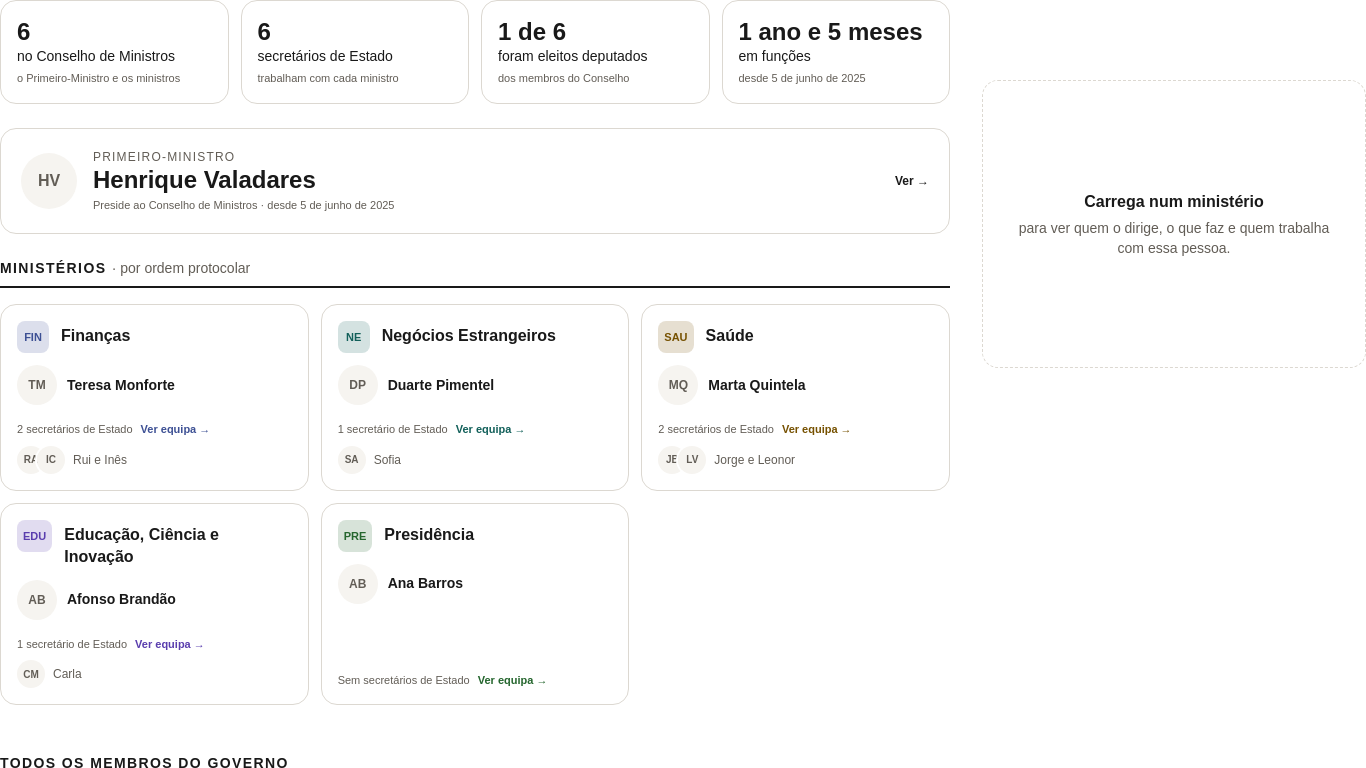
Test: GovernmentView › shows a card per ministry, opens the minister pressed, then their secretary of State, and searches every member
This screenshot has width=1366, height=768.
Later steps or results of the test are not shown.
Expected: the text "Carrega num ministério" is shown, x1=1084 y1=190 x2=1264 y2=214
Expected: the text "no Conselho de Ministros" is shown, x1=17 y1=48 x2=175 y2=64
Click the button "Teresa Monforte". click: click(33, 337)
box: x1=0 y1=304 x2=309 y2=491
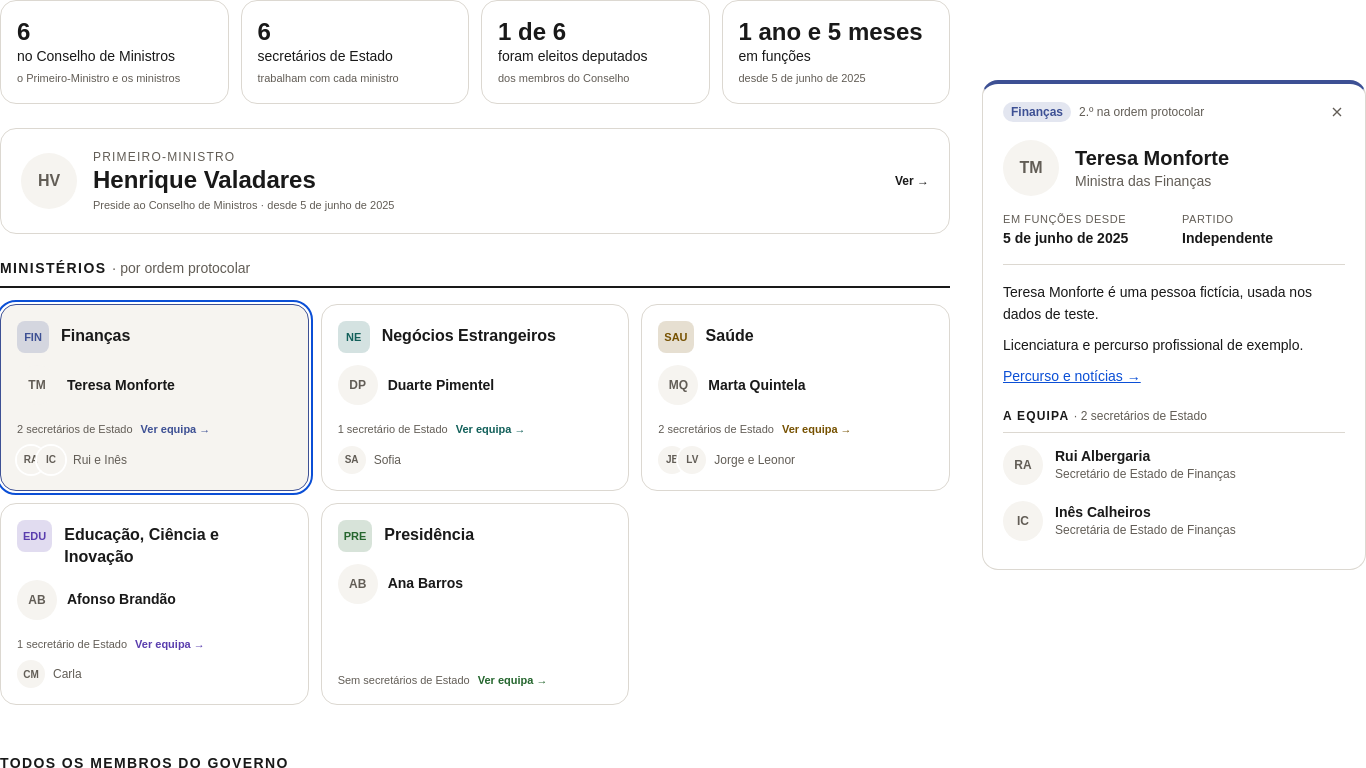
Now the text "2.º na ordem protocolar" is shown, box x1=1079 y1=104 x2=1204 y2=120
Click the button "RA Rui Albergaria Secretário de Estado de Finanças". click: click(1174, 465)
box: x1=995 y1=437 x2=1353 y2=493
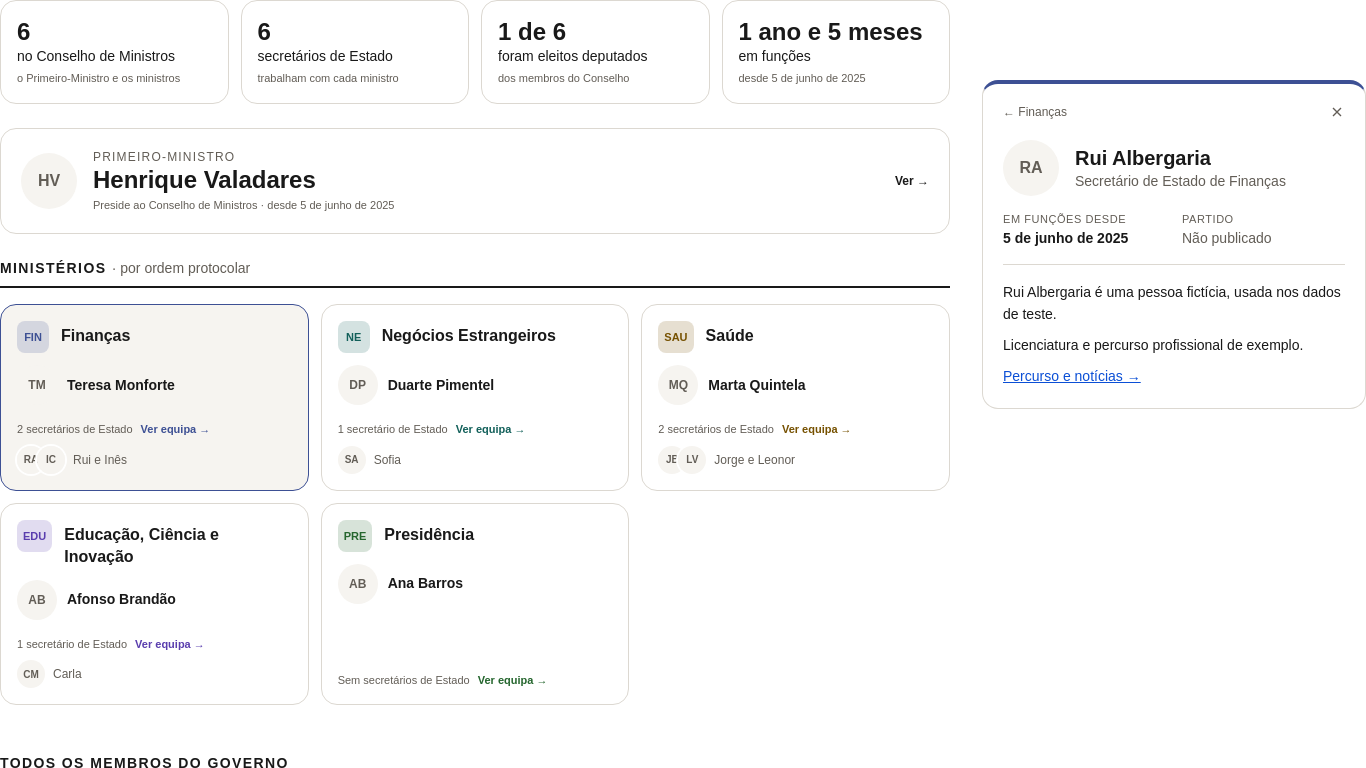
Click the button "← Finanças". click: click(1035, 112)
box: x1=1003 y1=104 x2=1067 y2=120
(page scrolled)
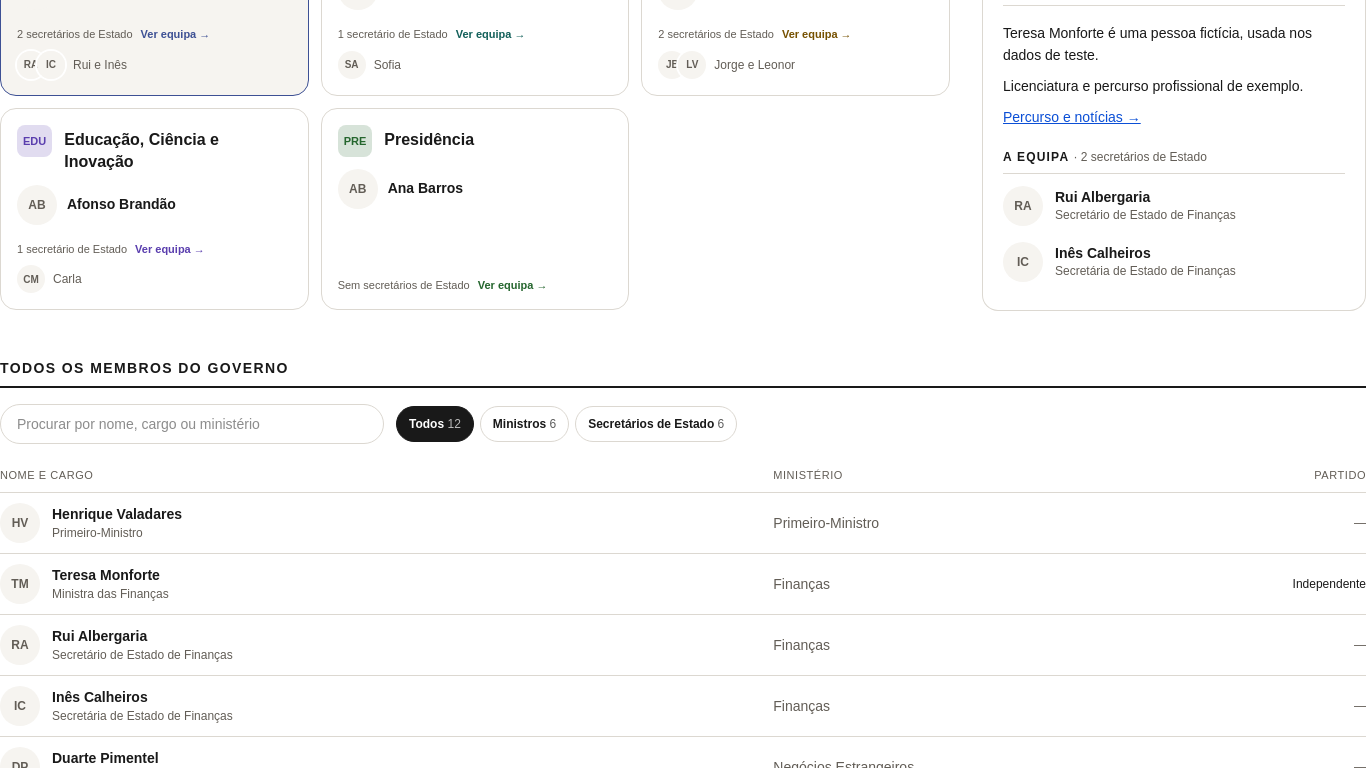
Click the button "Ministros 6". click: click(524, 424)
box: x1=480 y1=406 x2=569 y2=442
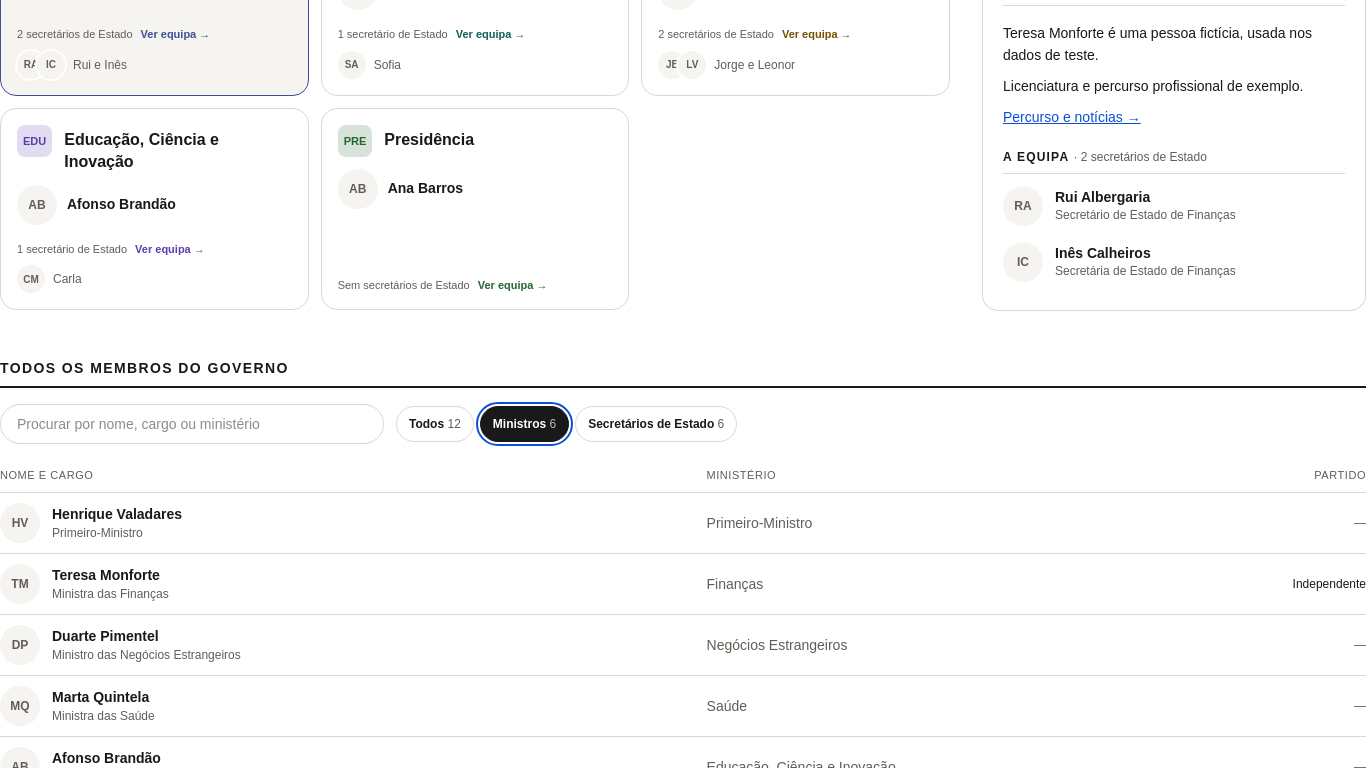
Now the number of rows is 7
Type "Rui Albergaria" into the search field. click: (192, 424)
box: x1=0 y1=404 x2=384 y2=444
(page scrolled)
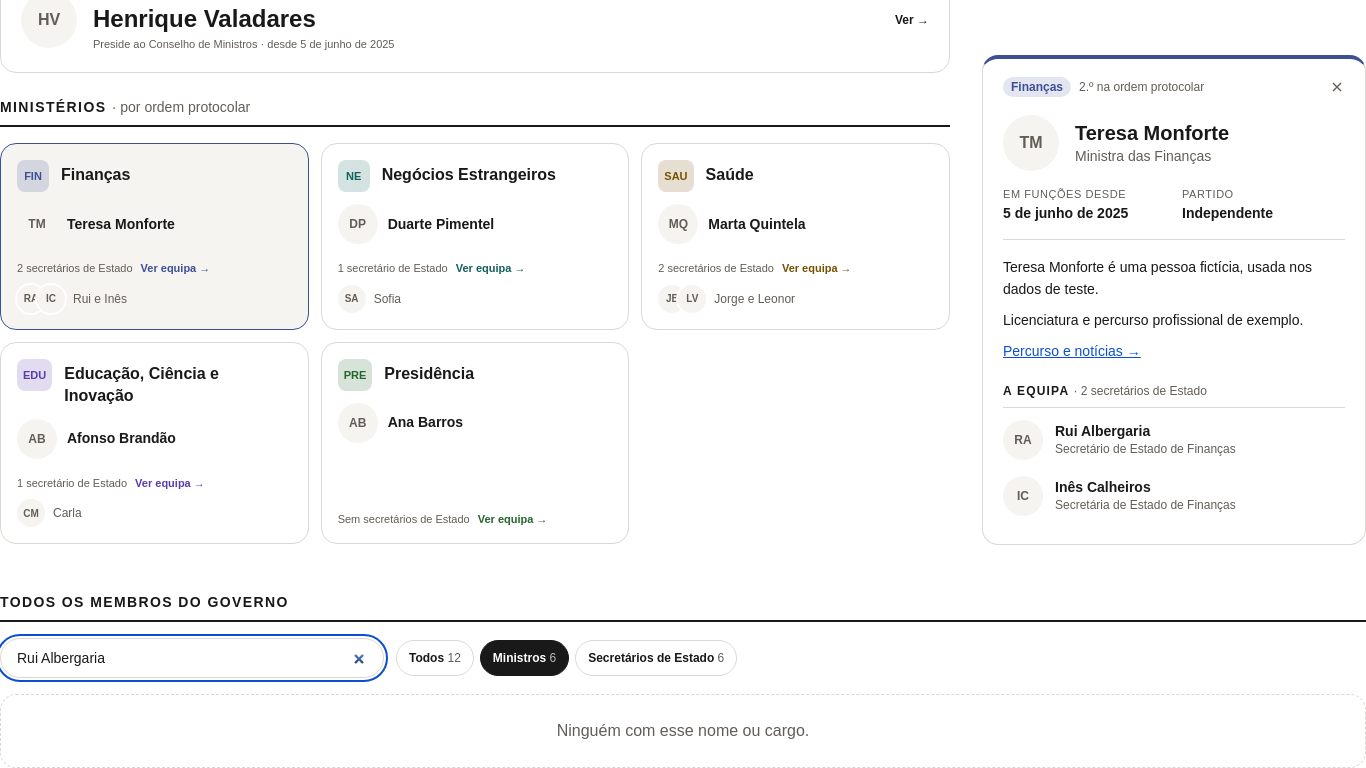
Now the text "Ninguém com esse nome ou cargo." is shown, box x1=0 y1=694 x2=1365 y2=767
